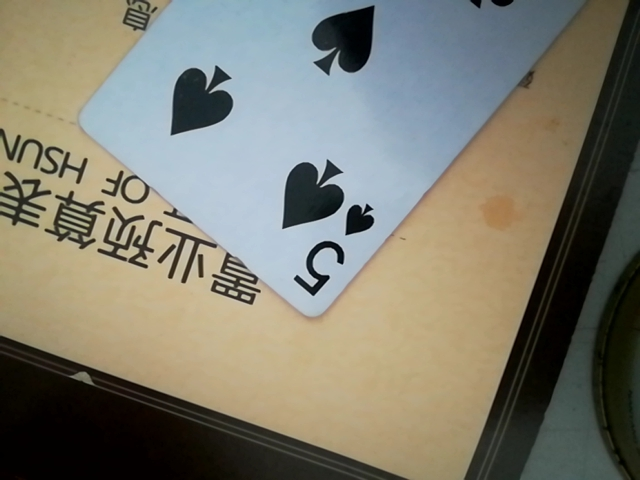ht 5: (73, 4, 621, 332)
